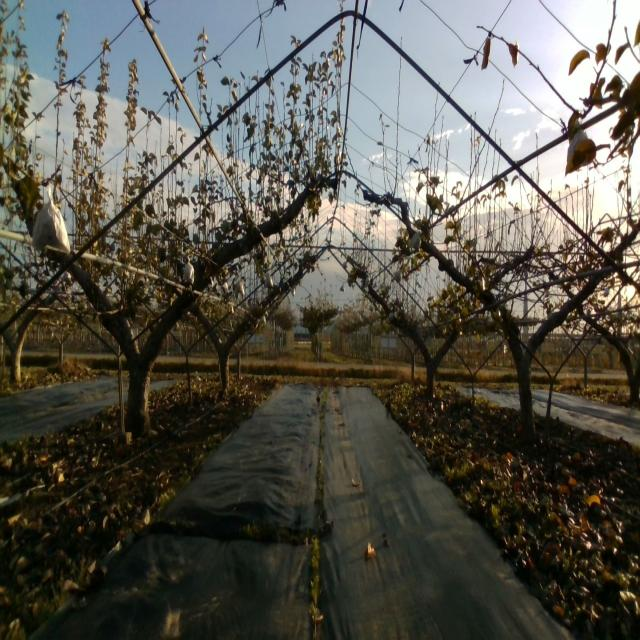pearbags: (29, 184, 71, 252), (567, 114, 596, 168), (182, 257, 195, 283), (408, 230, 422, 251), (233, 281, 245, 300)
